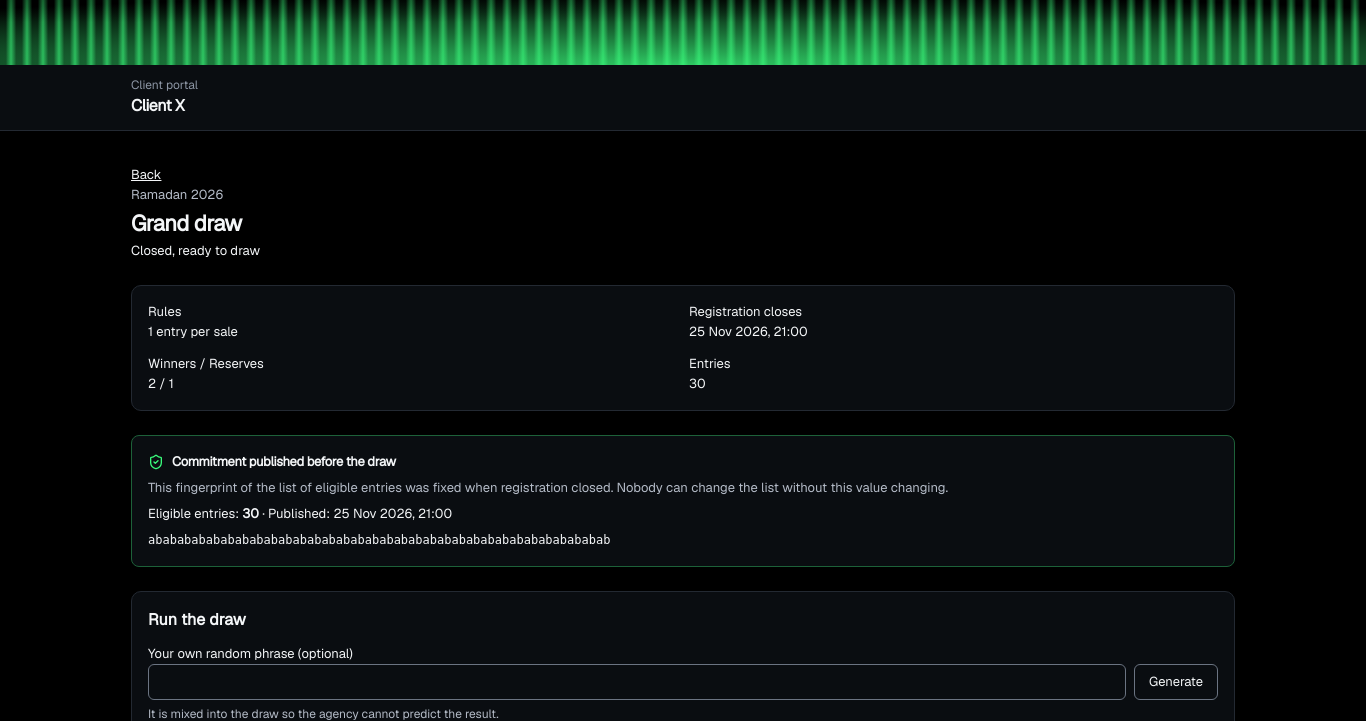
Test: draw: shows the commitment, needs every prize label, confirms, then posts once
This screenshot has width=1366, height=721.
Expected: the heading "Commitment published before the draw" is shown, 148,453 -> 396,470
Type "my phrase" into the field labelled "Your own random phrase".
click(637, 682); type("my phrase")  # box 148,664 -> 1126,700
(page scrolled)
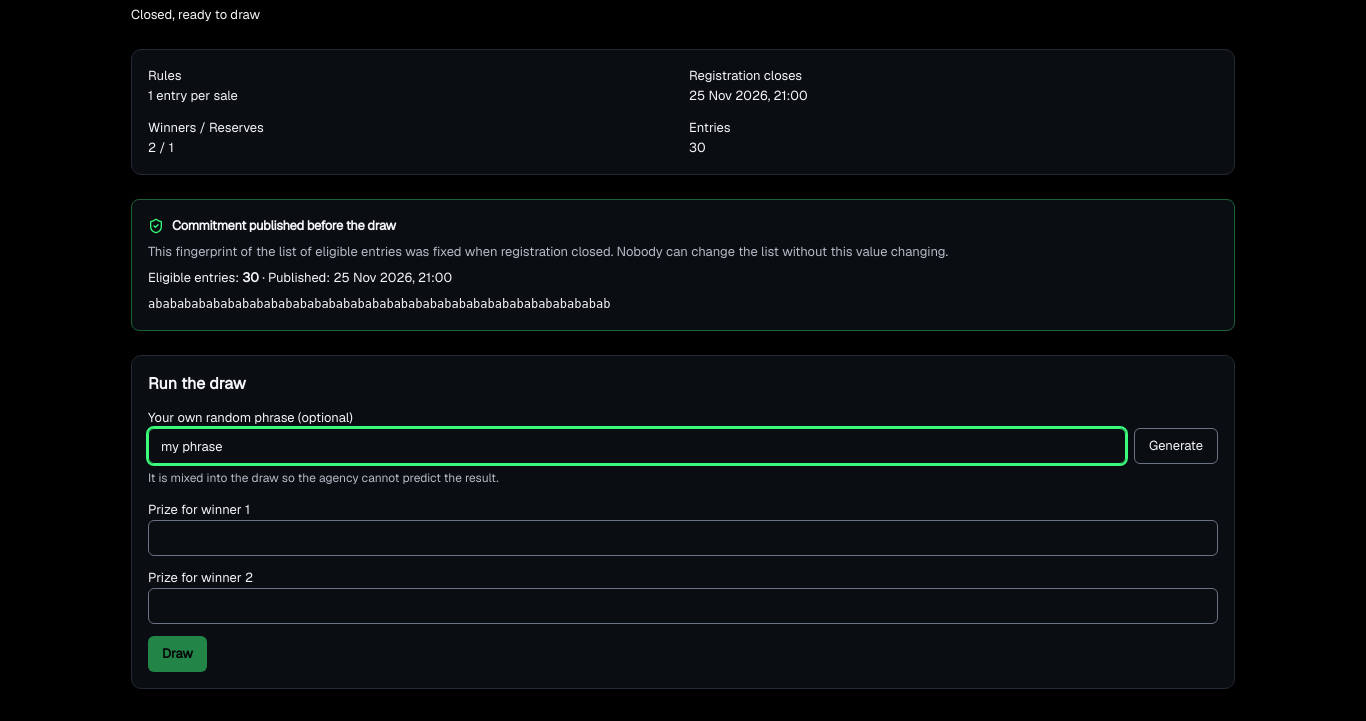
Type "TV" into the field labelled "Prize for winner 1".
click(683, 538); type("TV")  # box 148,520 -> 1218,556
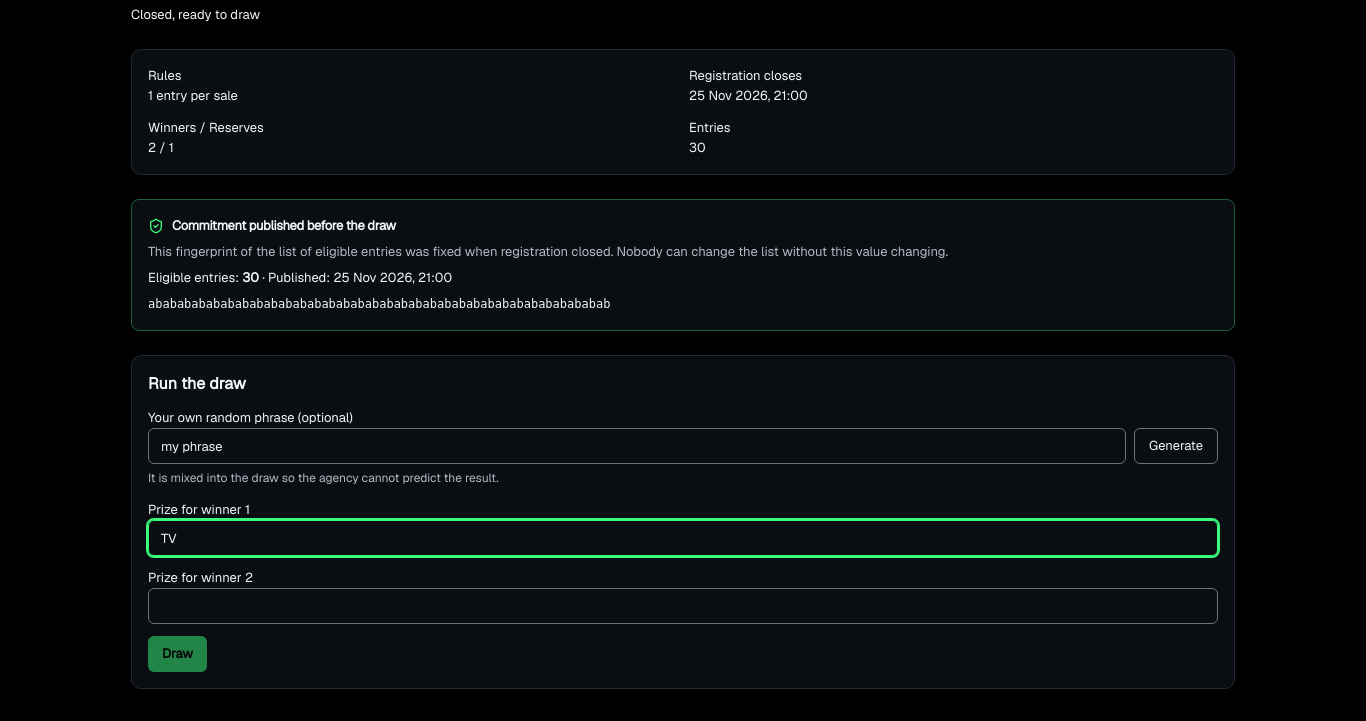
Expected: the button "Draw" is disabled, 148,636 -> 207,672
Type "Phone" into the field labelled "Prize for winner 2".
click(683, 606); type("Phone")  # box 148,588 -> 1218,624
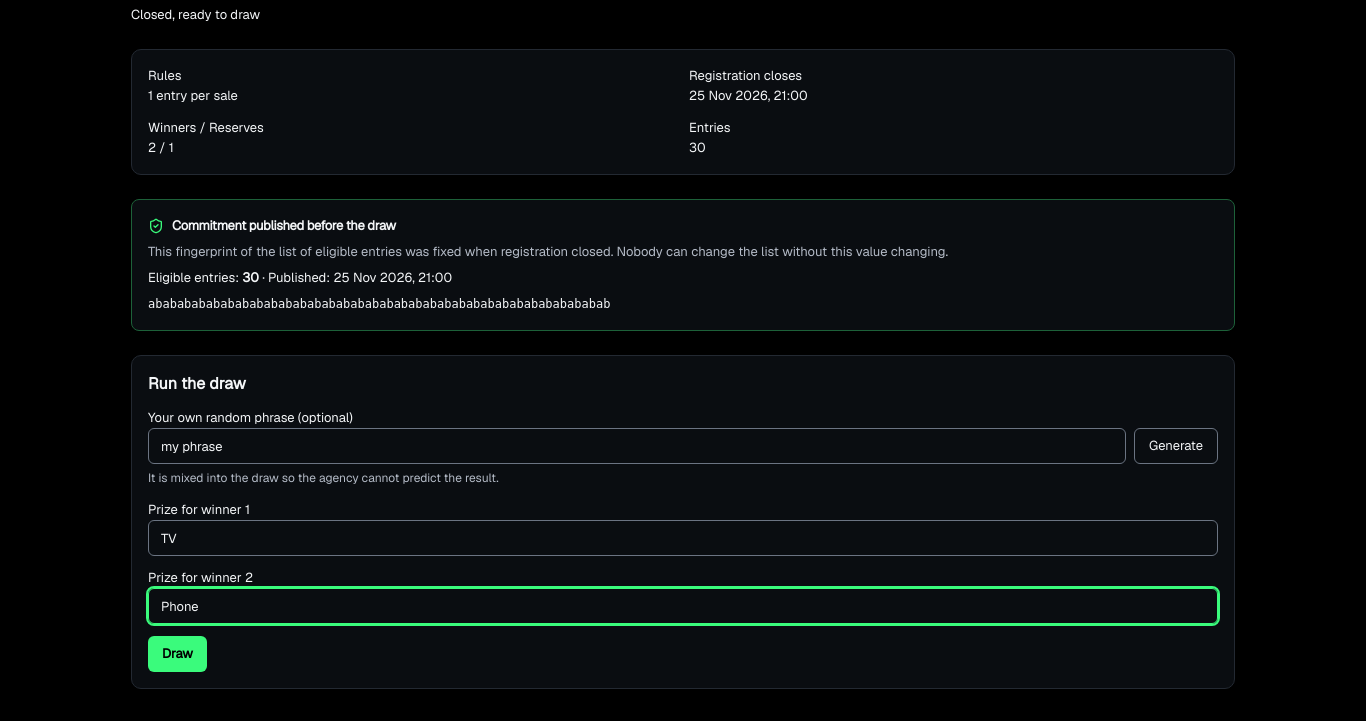
Click the button "Draw".
click(177, 654)  # box 148,636 -> 207,672
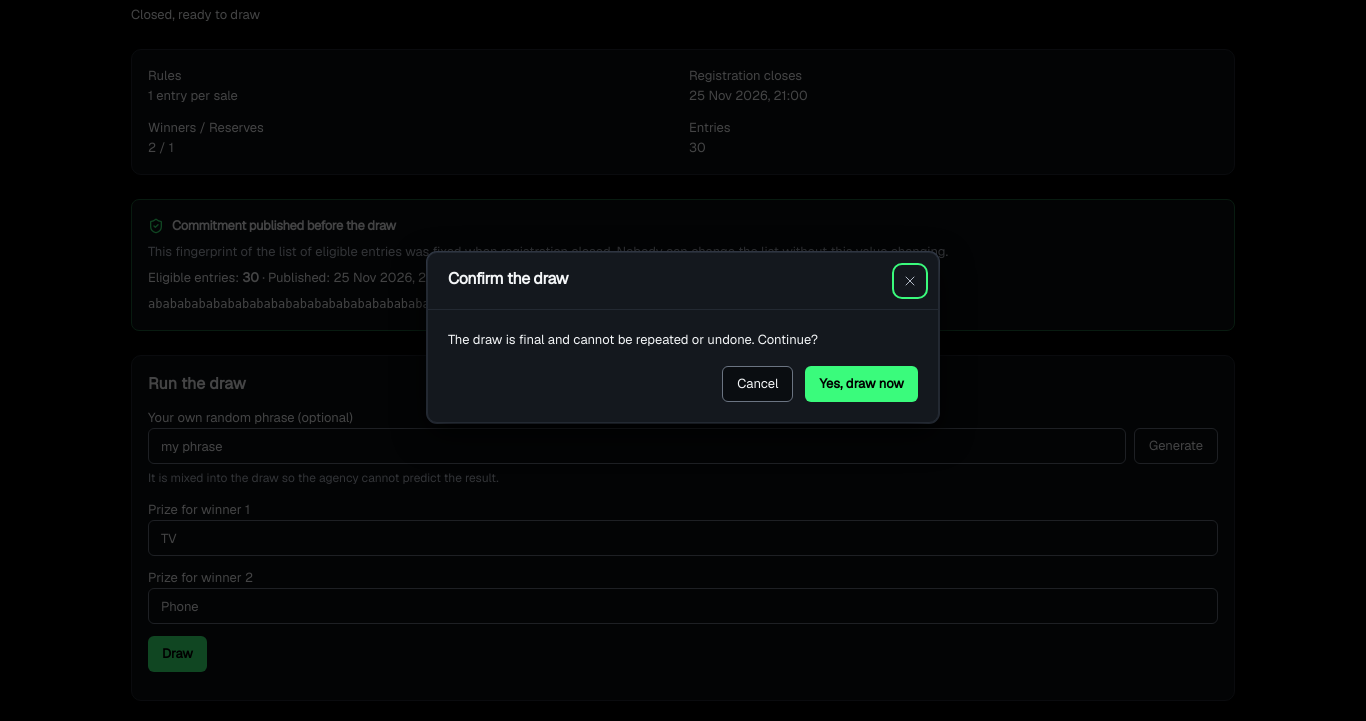
Result: the text "final and cannot be repeated or undone" is shown at 448,330 -> 818,348
Click the button "Yes, draw now".
click(862, 384)  # box 806,366 -> 918,402
(page scrolled)
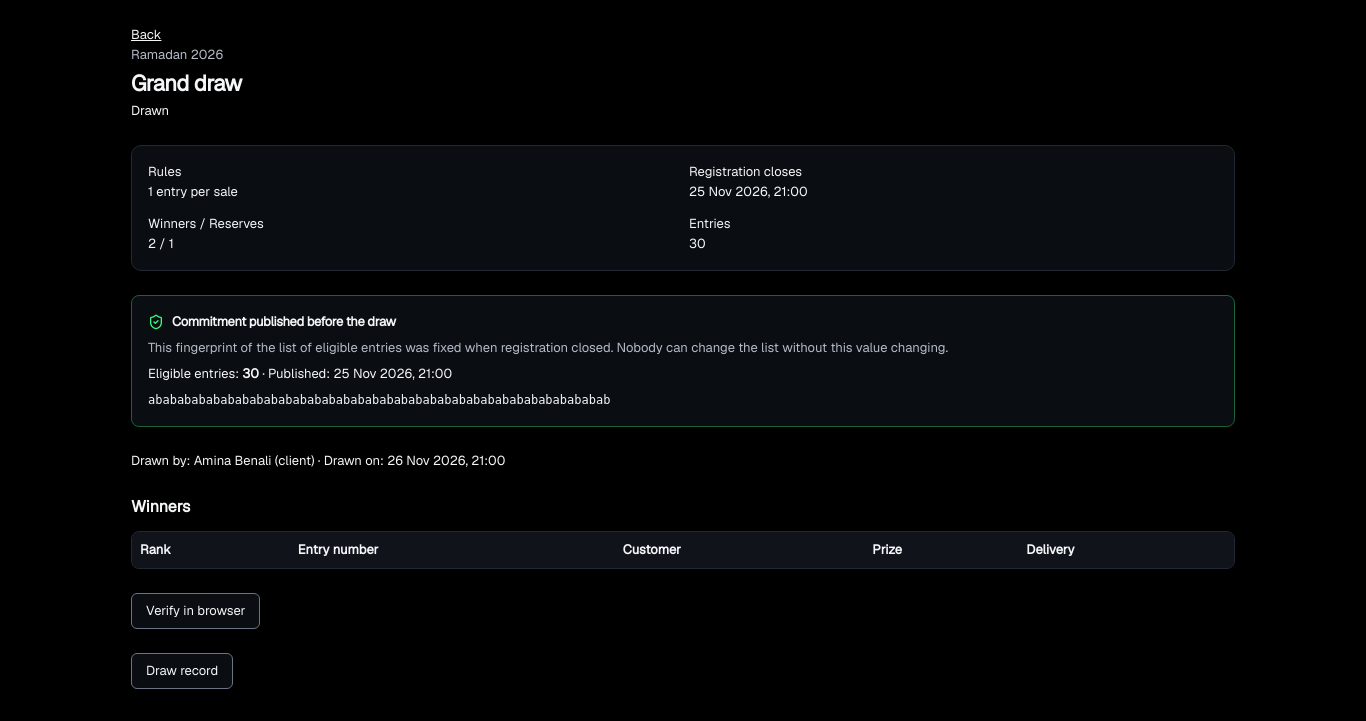
Result: the text "Amina Benali (client)" is shown at 194,452 -> 315,469
